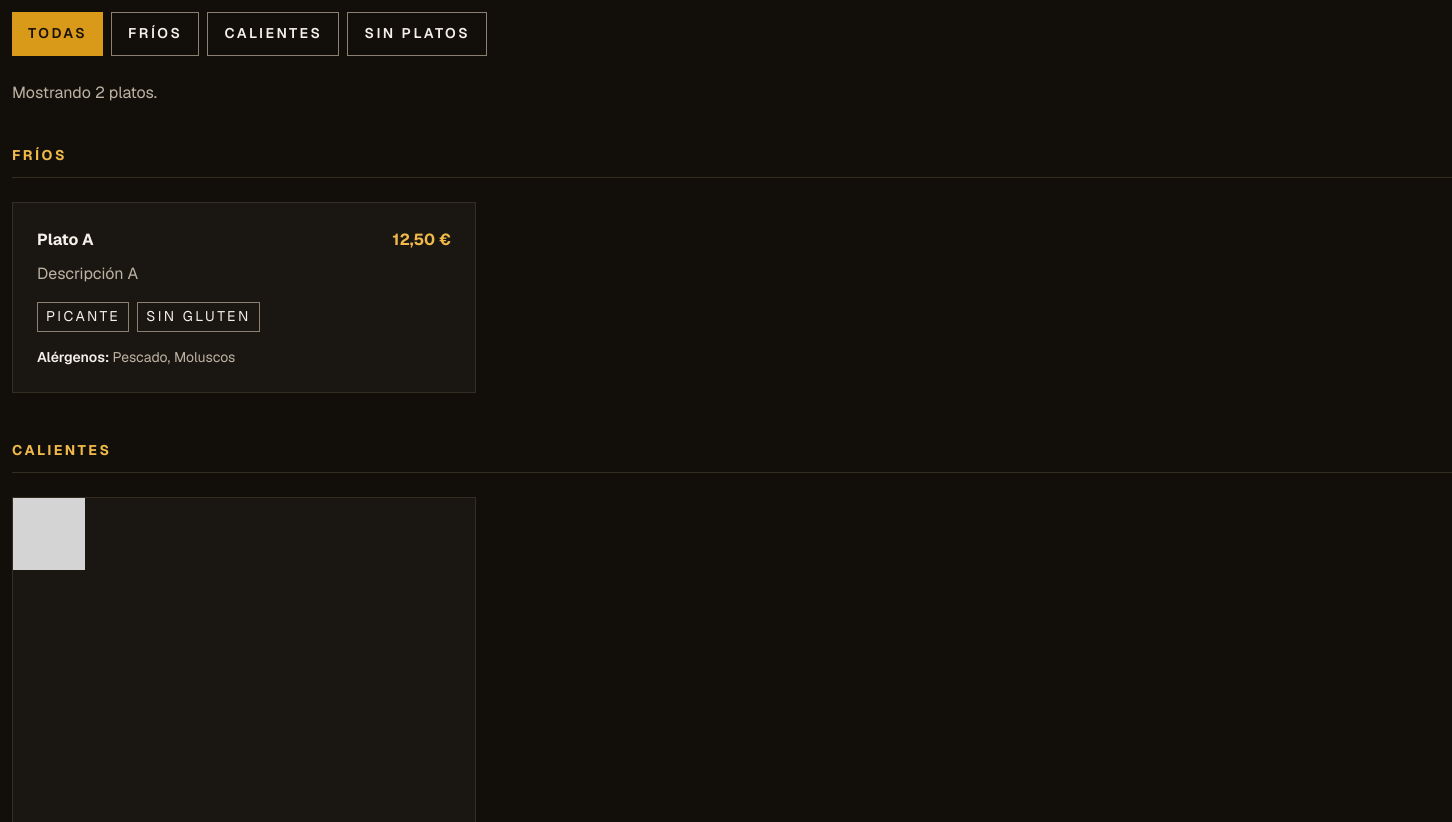
CA-02 filtro de la carta › al elegir una categoría solo se muestran los platos de esa categoría
Click the button "Fríos" at {"x": 155, "y": 34}, box x1=111 y1=12 x2=199 y2=56
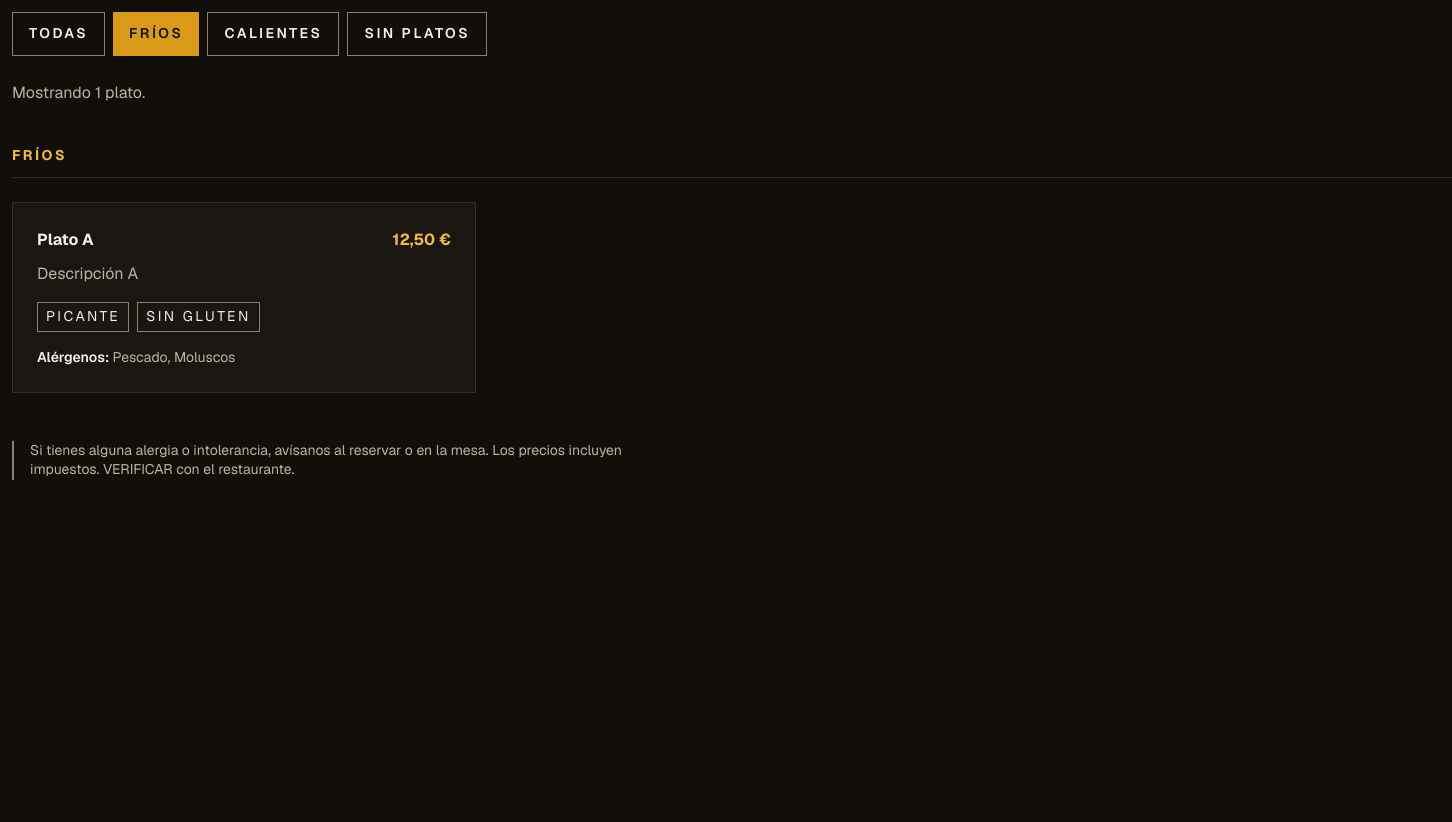
Check: the heading "Plato A" is shown, box x1=37 y1=227 x2=94 y2=253
Check: the message reads "Mostrando 1 plato.", box x1=12 y1=82 x2=145 y2=103
